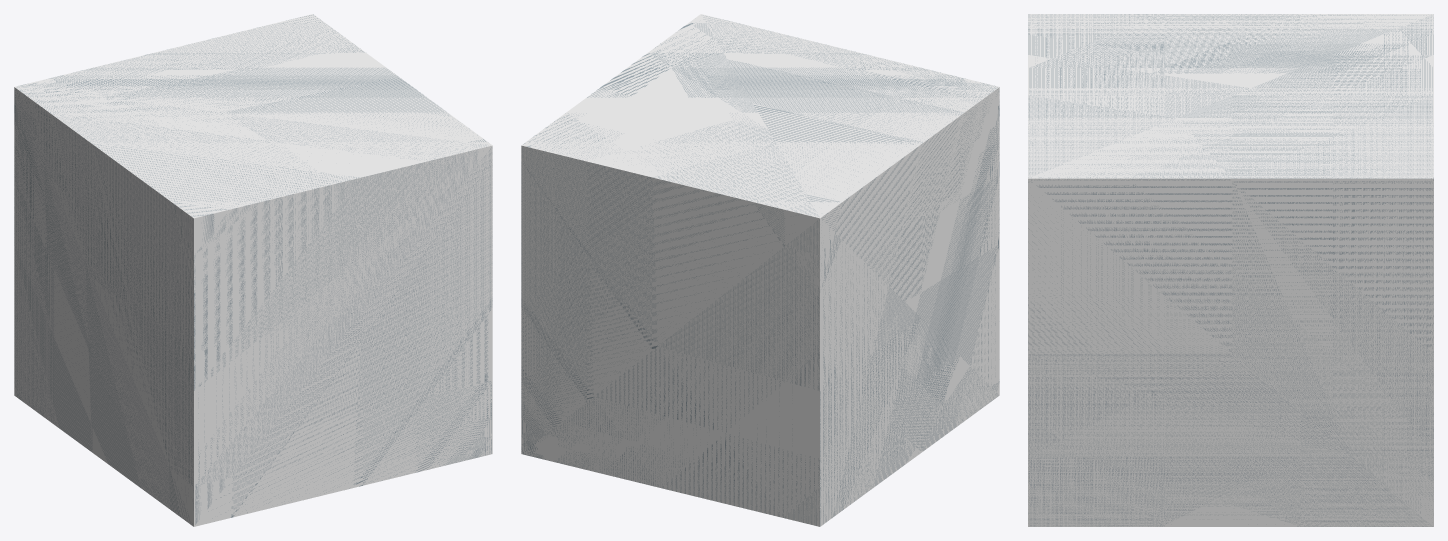
The picture shows the model from 3 angles, left to right: view 1: azimuth 30°, elevation 25°; view 2: azimuth 150°, elevation 25°; view 3: azimuth 270°, elevation 25°; orthographic projection. The views are drawn at different scales.
Parts seen in each view (by area): view 1: SketchUp; view 2: SketchUp; view 3: SketchUp.
Boxes of the visible parts, x1,y1,x2,y2 form: SketchUp: (14, 14, 492, 526); SketchUp: (521, 14, 999, 526); SketchUp: (1028, 14, 1433, 526).
Bounding box in the file's own units: 28.74 × 29.92 × 28.35.
